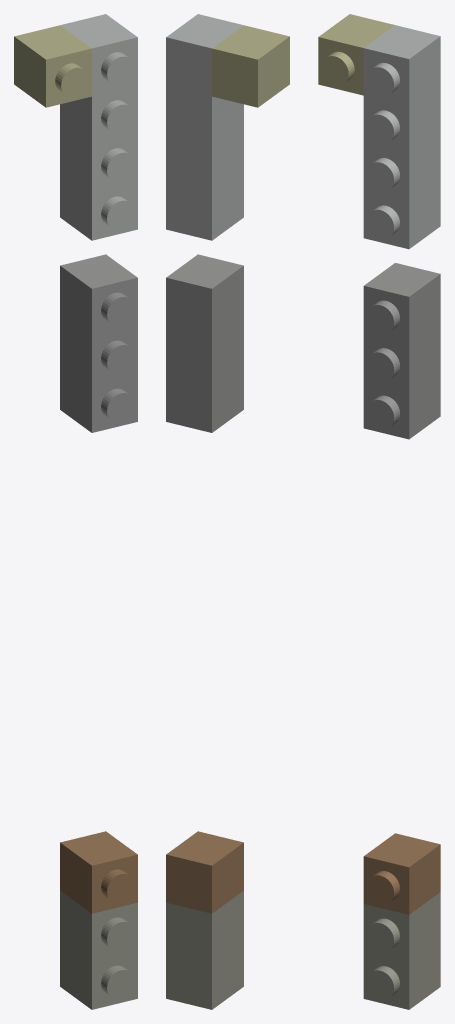
The model's file is current.glb.
The picture shows the model from 3 angles, left to right: view 1: azimuth 30°, elevation 25°; view 2: azimuth 150°, elevation 25°; view 3: azimuth 330°, elevation 25°; orthographic projection.
Parts seen in each view (by area): view 1: world; view 2: world; view 3: world.
Boxes of the visible parts, x1,y1,x2,y2 form: world: (14,14,137,1009); world: (166,14,289,1009); world: (318,14,440,1009).
Bounding box in the file's own units: 16 × 160 × 11.4.
